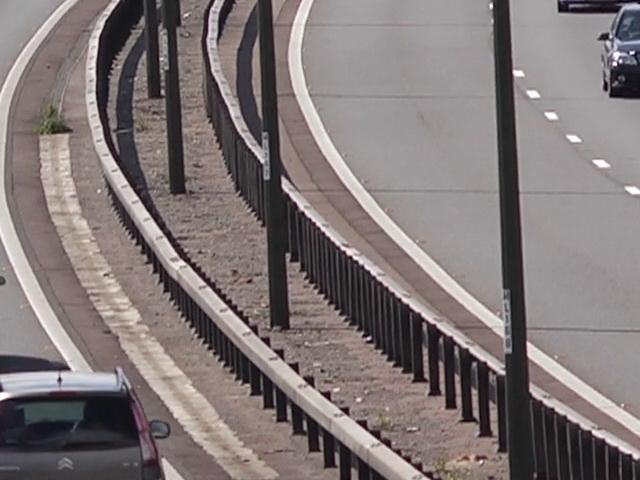car: (0, 365, 180, 480), (603, 6, 640, 99)
